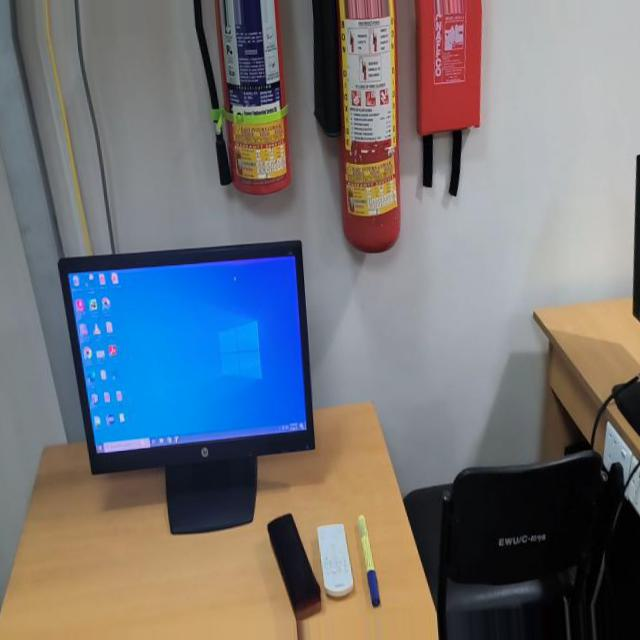Chair: (385, 474, 570, 639)
Fire Extinguisher: (347, 0, 410, 251), (243, 0, 304, 183)
Monitor: (83, 235, 308, 538), (609, 163, 640, 372), (587, 402, 640, 475)
